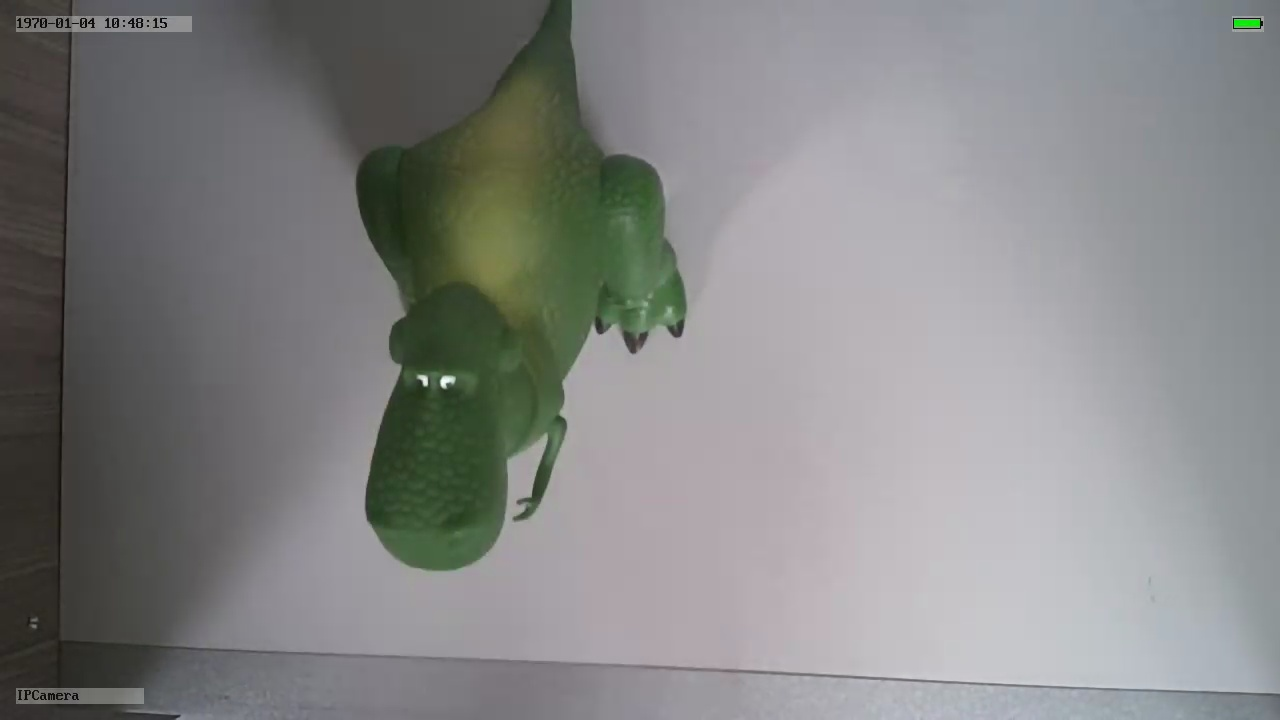rex: (352, 52, 688, 570)
